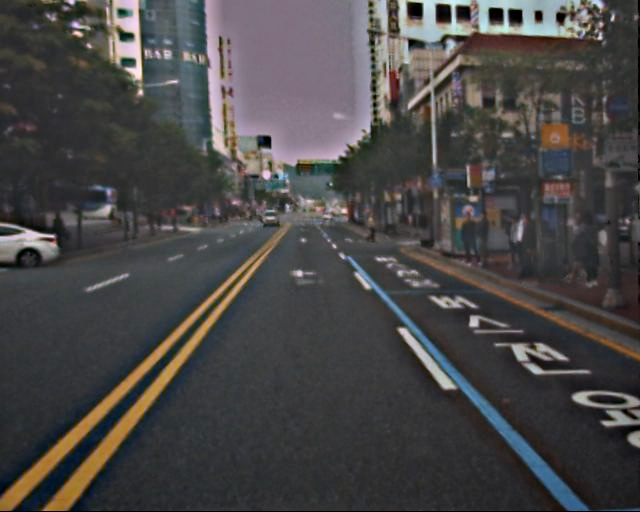person: (559, 215, 600, 285), (498, 212, 539, 276), (470, 213, 494, 271), (458, 211, 481, 266), (364, 213, 378, 248)
